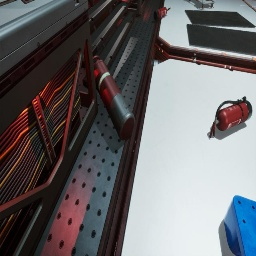FireExtinguisher ]: (209, 96, 253, 138), (154, 7, 170, 20)
NitrogenTank ,: (93, 55, 135, 140)
